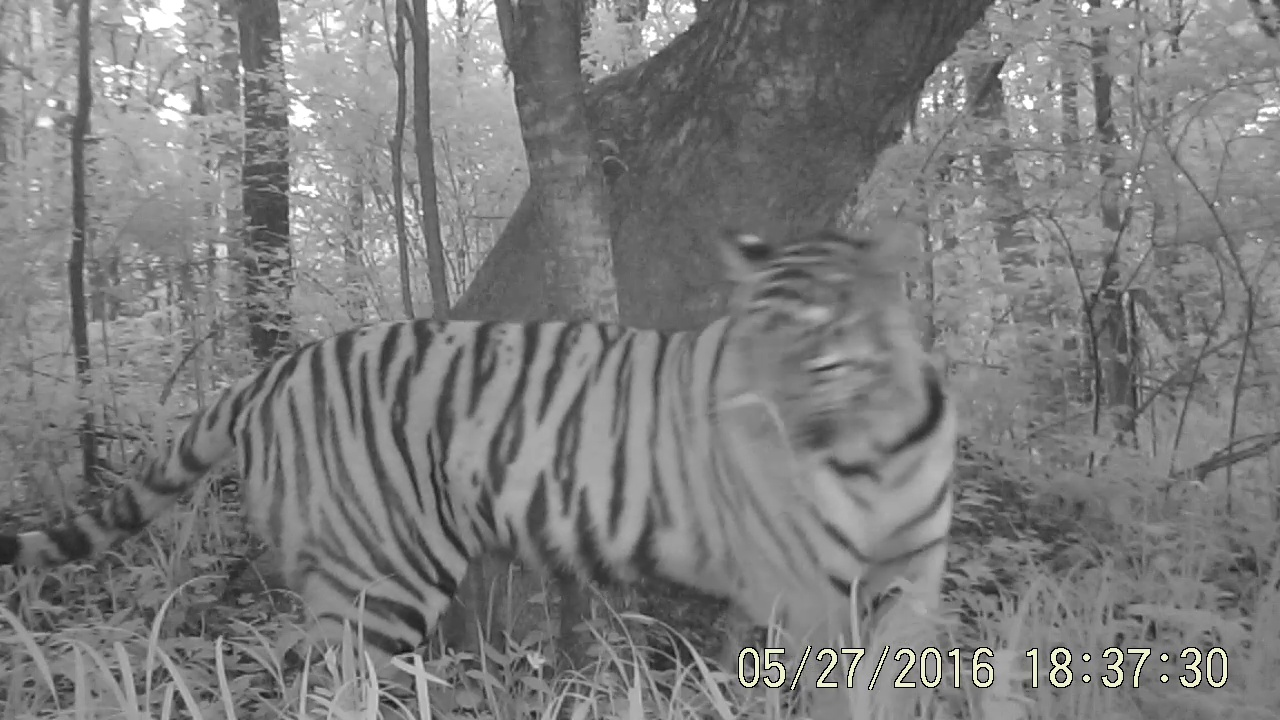Tiger: (1, 216, 965, 703)
